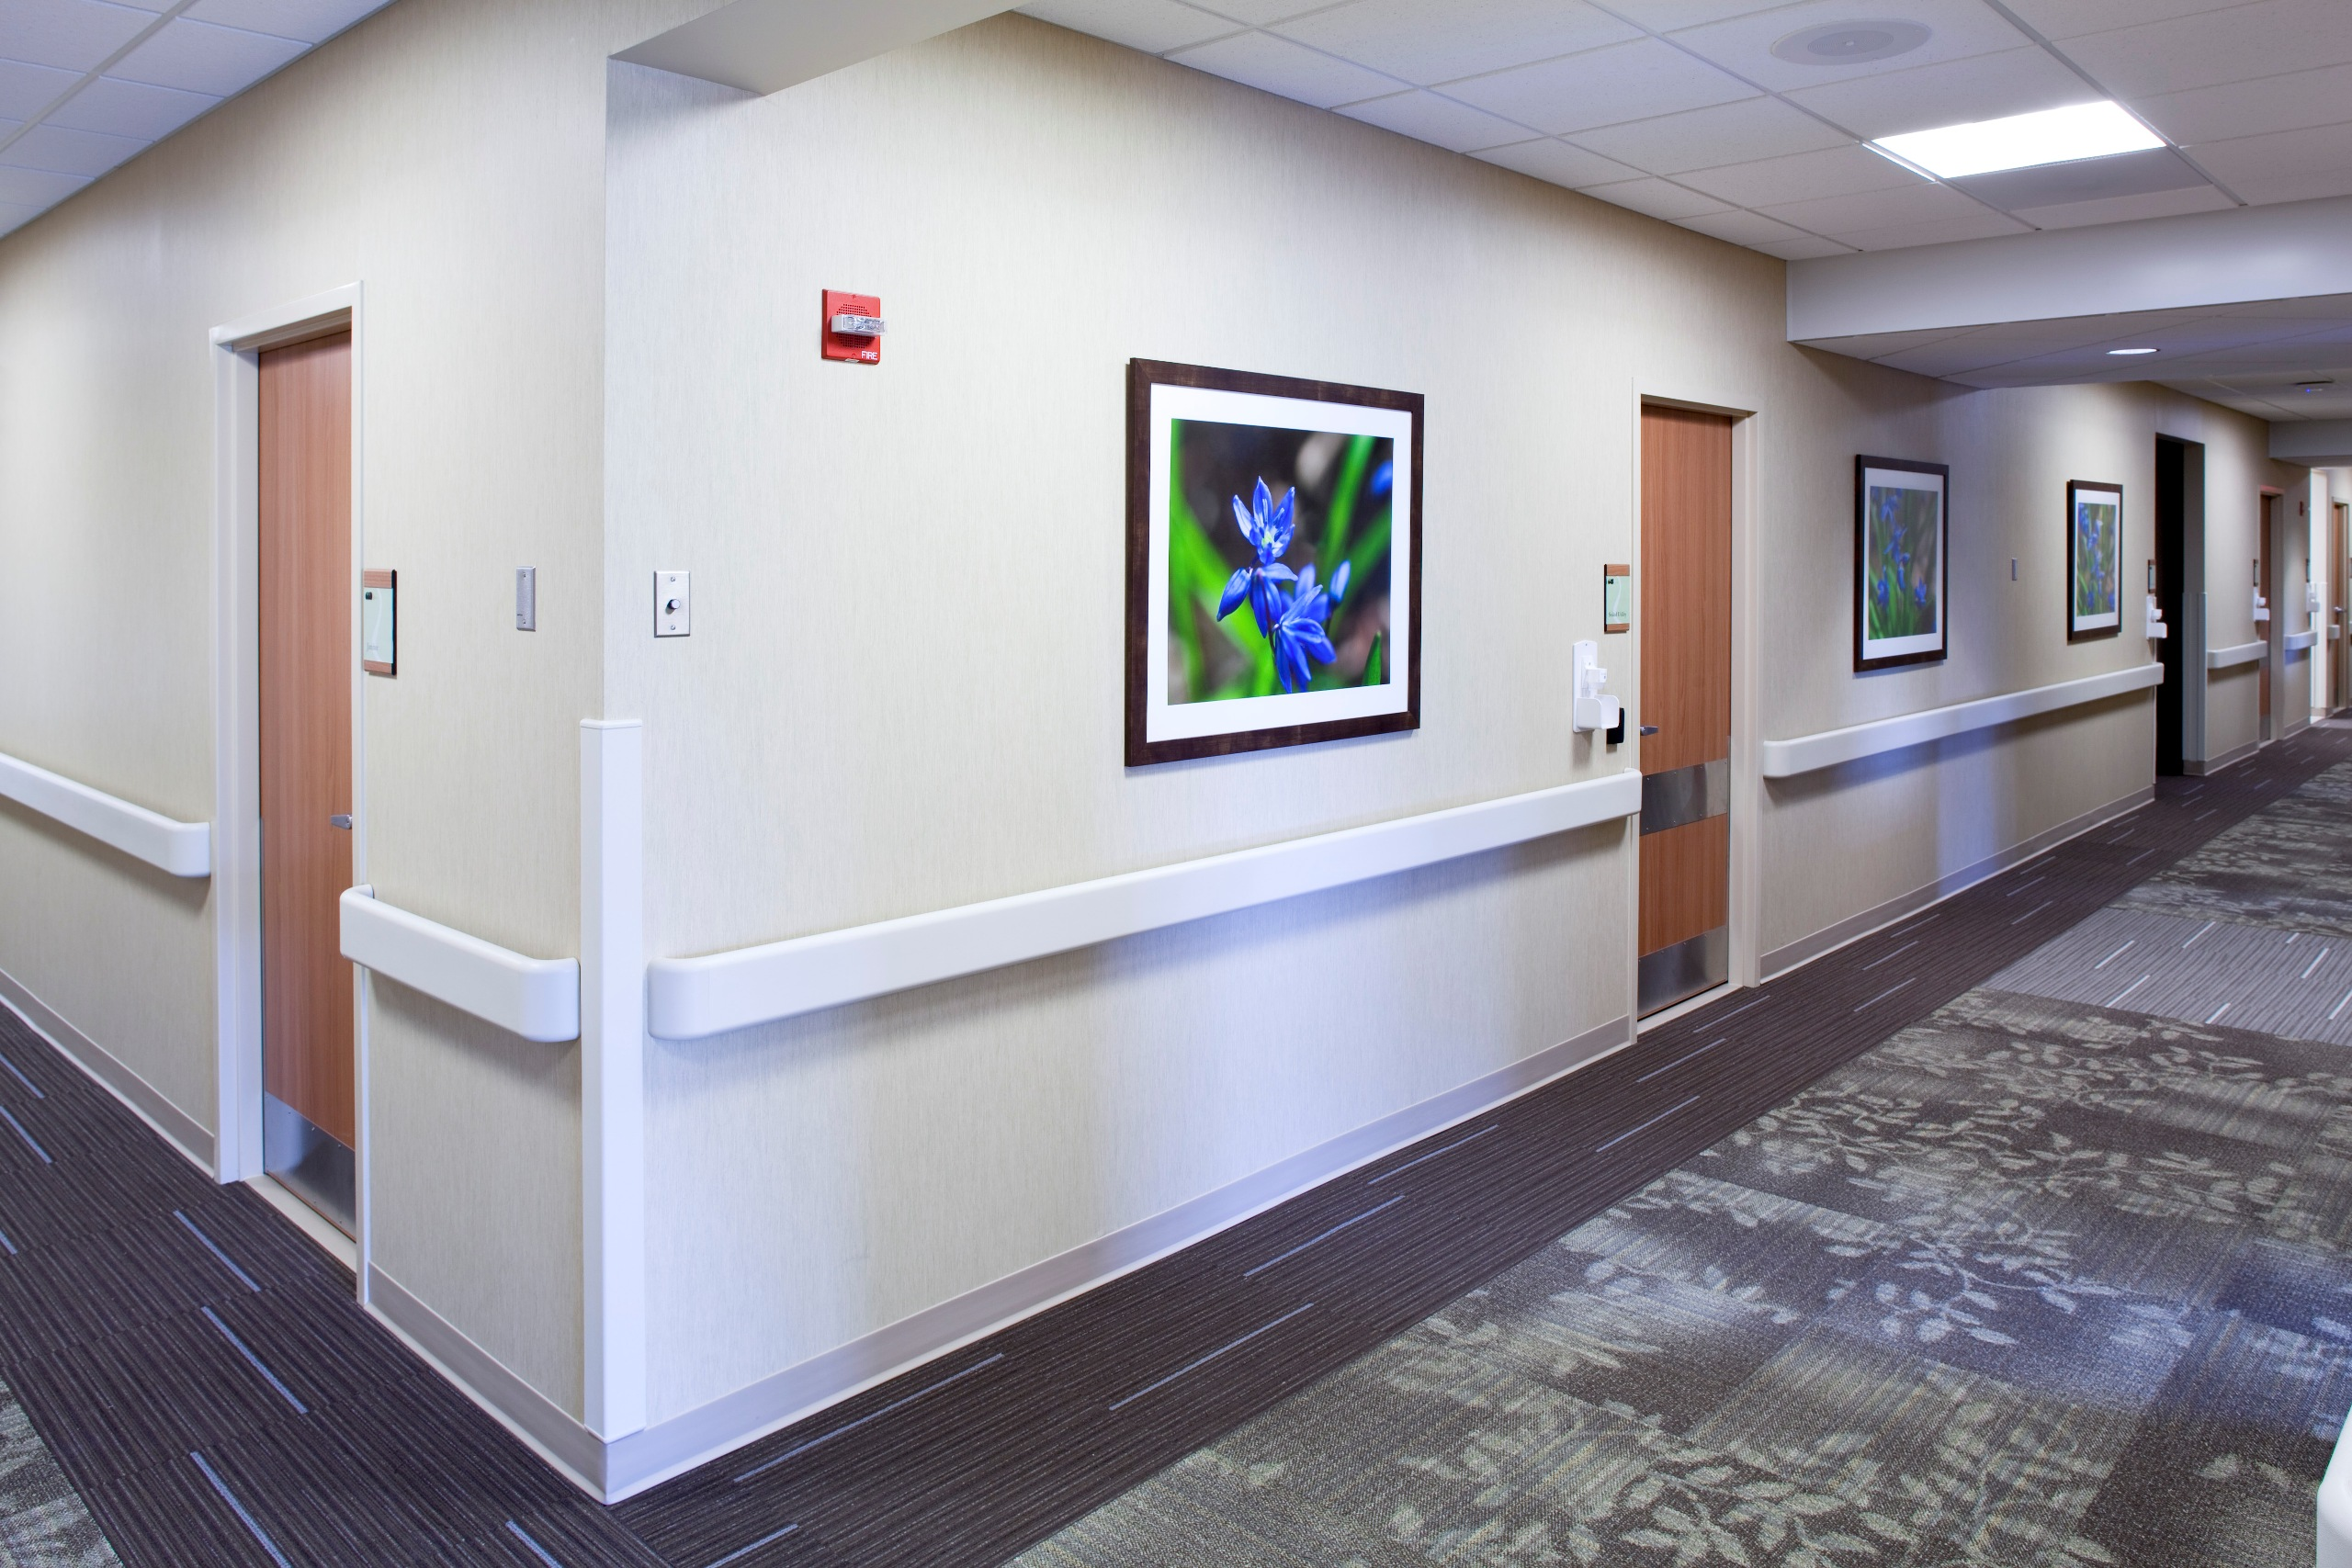door_handle: (1633, 716, 1662, 744), (2331, 606, 2343, 614)
hallway_assist_bar: (654, 763, 1648, 1050), (1767, 656, 2166, 798), (320, 877, 579, 1057), (2, 773, 212, 901), (2264, 630, 2343, 667), (2193, 640, 2271, 675)
